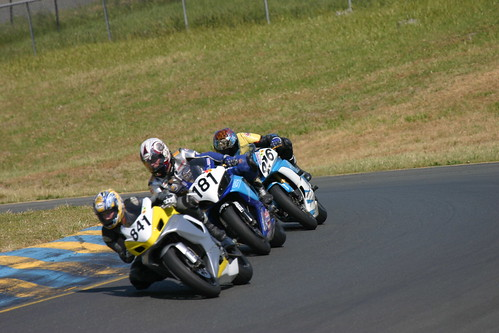helmet: (134, 135, 171, 178), (91, 181, 120, 225), (214, 126, 240, 147)
